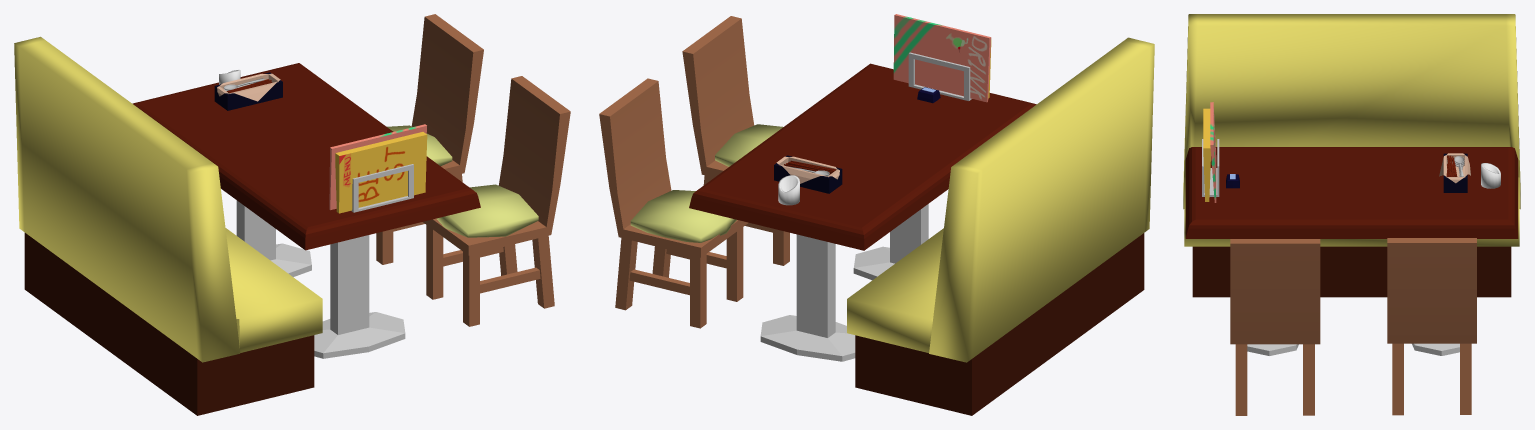
Rendered from TableSet_4PC_0915.fbx.
The picture shows the model from 3 angles, left to right: view 1: azimuth 30°, elevation 25°; view 2: azimuth 150°, elevation 25°; view 3: azimuth 270°, elevation 25°; orthographic projection. The views are drawn at different scales.
Parts seen in each view (by area): view 1: Sofa2, Table, Chair, Sofa_Leg2, Table_Leg, Menu, Cushion, MenuStand, Box, Sheet; view 2: Sofa2, Table, Chair, Sofa_Leg2, Table_Leg, Menu, Cushion, MenuStand, Box, Sheet, Receipt; view 3: Sofa2, Table, Chair, Sofa_Leg2, Menu, Table_Leg, Receipt, MenuStand, Sheet, Box.
Boxes of the visible parts, <box> form: Sofa2: <box>14,36,322,362</box>; Table: <box>132,63,480,250</box>; Chair: <box>376,14,570,326</box>; Sofa_Leg2: <box>24,233,314,415</box>; Table_Leg: <box>236,200,405,358</box>; Menu: <box>329,124,427,213</box>; Cushion: <box>387,125,538,237</box>; MenuStand: <box>351,164,413,212</box>; Box: <box>214,72,282,110</box>; Sheet: <box>217,73,280,101</box>; Sofa2: <box>847,37,1154,362</box>; Table: <box>689,63,1036,250</box>; Chair: <box>599,16,789,328</box>; Sofa_Leg2: <box>855,233,1144,415</box>; Table_Leg: <box>760,204,928,361</box>; Menu: <box>893,14,991,102</box>; Cushion: <box>630,124,783,242</box>; MenuStand: <box>908,52,971,100</box>; Box: <box>774,155,842,193</box>; Sheet: <box>776,156,839,183</box>; Receipt: <box>778,175,799,205</box>; Sofa2: <box>1183,14,1520,246</box>; Table: <box>1185,147,1518,238</box>; Chair: <box>1230,238,1476,415</box>; Sofa_Leg2: <box>1192,246,1511,297</box>; Menu: <box>1203,102,1216,202</box>; Table_Leg: <box>1247,343,1459,355</box>; Receipt: <box>1481,163,1500,188</box>; MenuStand: <box>1202,139,1219,196</box>; Sheet: <box>1439,153,1470,183</box>; Box: <box>1443,153,1467,192</box>.
Bounding box in the file's own units: 200 × 117 × 158.
